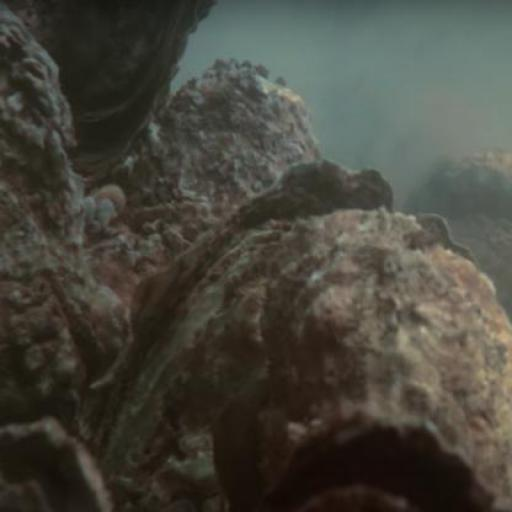Oyster-Closed: (118, 208, 512, 512), (1, 3, 124, 375), (112, 62, 330, 242), (1, 416, 112, 512)
Oyster-Open: (89, 167, 476, 505), (1, 1, 213, 175), (1, 180, 104, 445), (252, 412, 510, 512)
